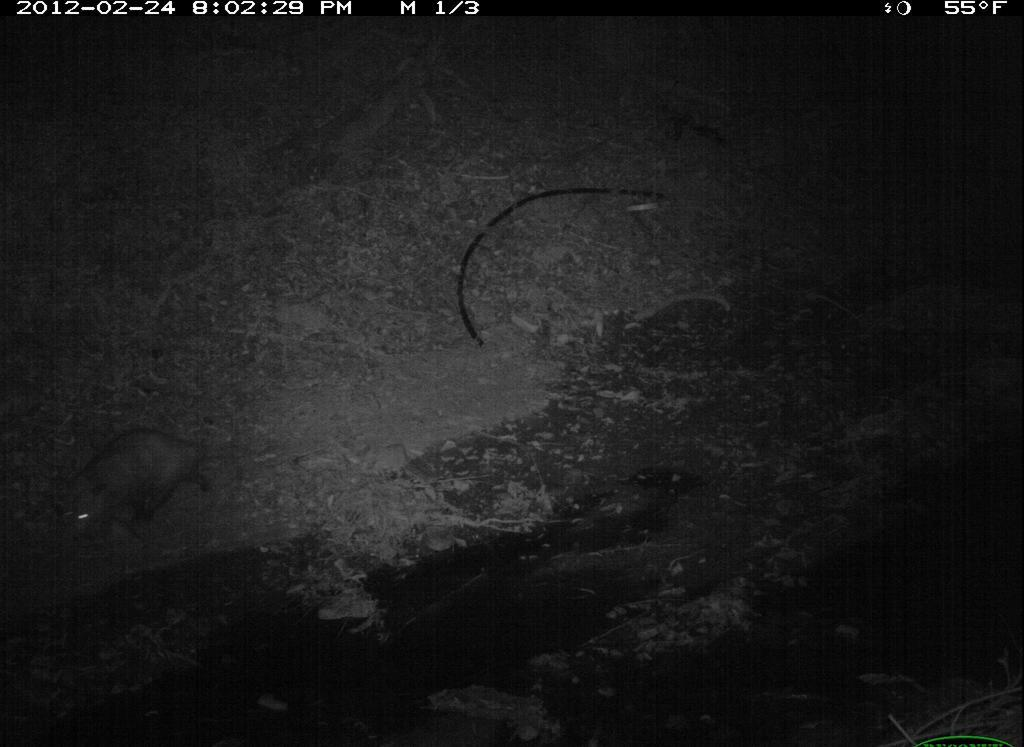opossum: (47, 425, 258, 555)
